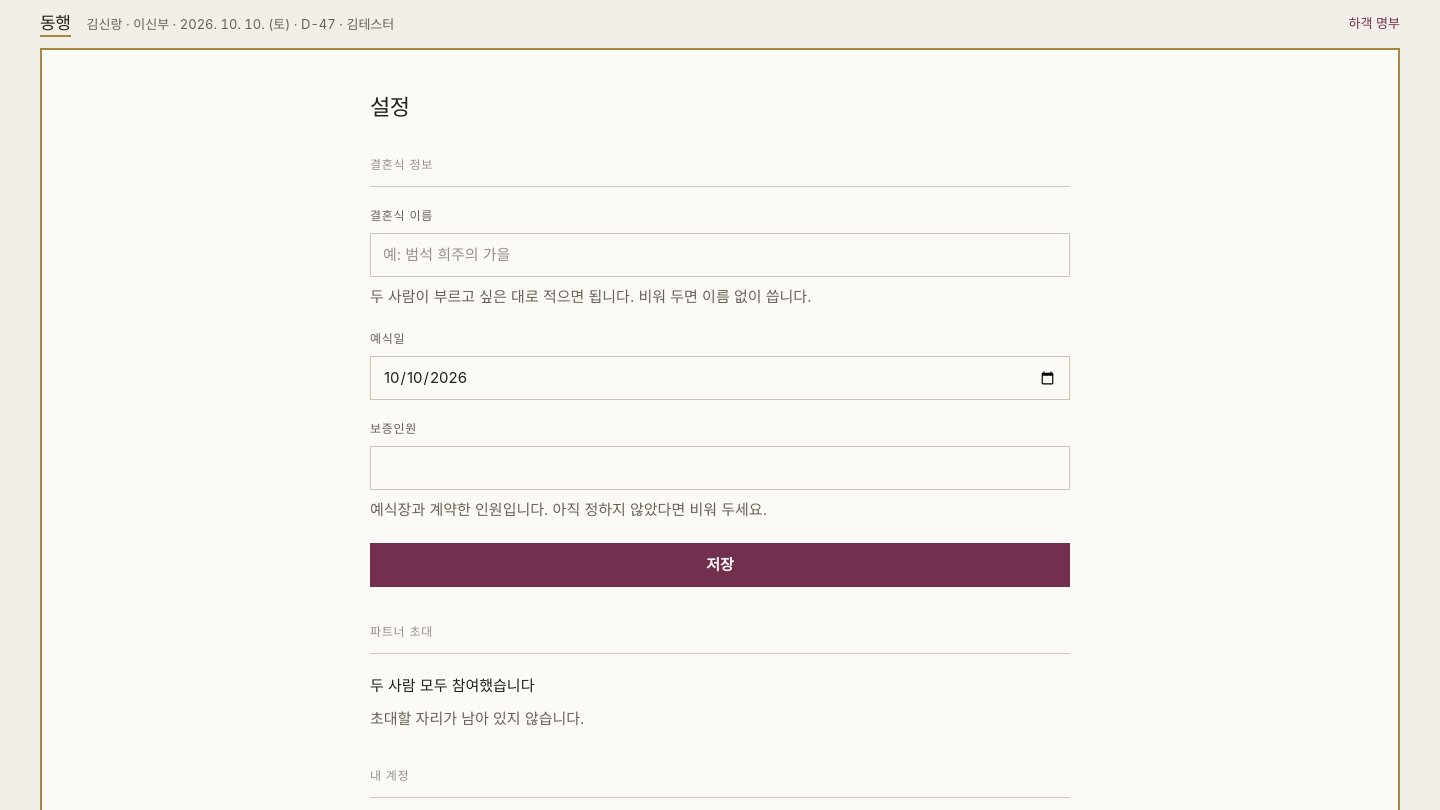
Test: will not spend a round trip on a 보증인원 the API would refuse
This screenshot has width=1440, height=810.
Type "0" into the field labelled "보증인원".
click(720, 468); type("0")  # box 370,446 -> 1070,490
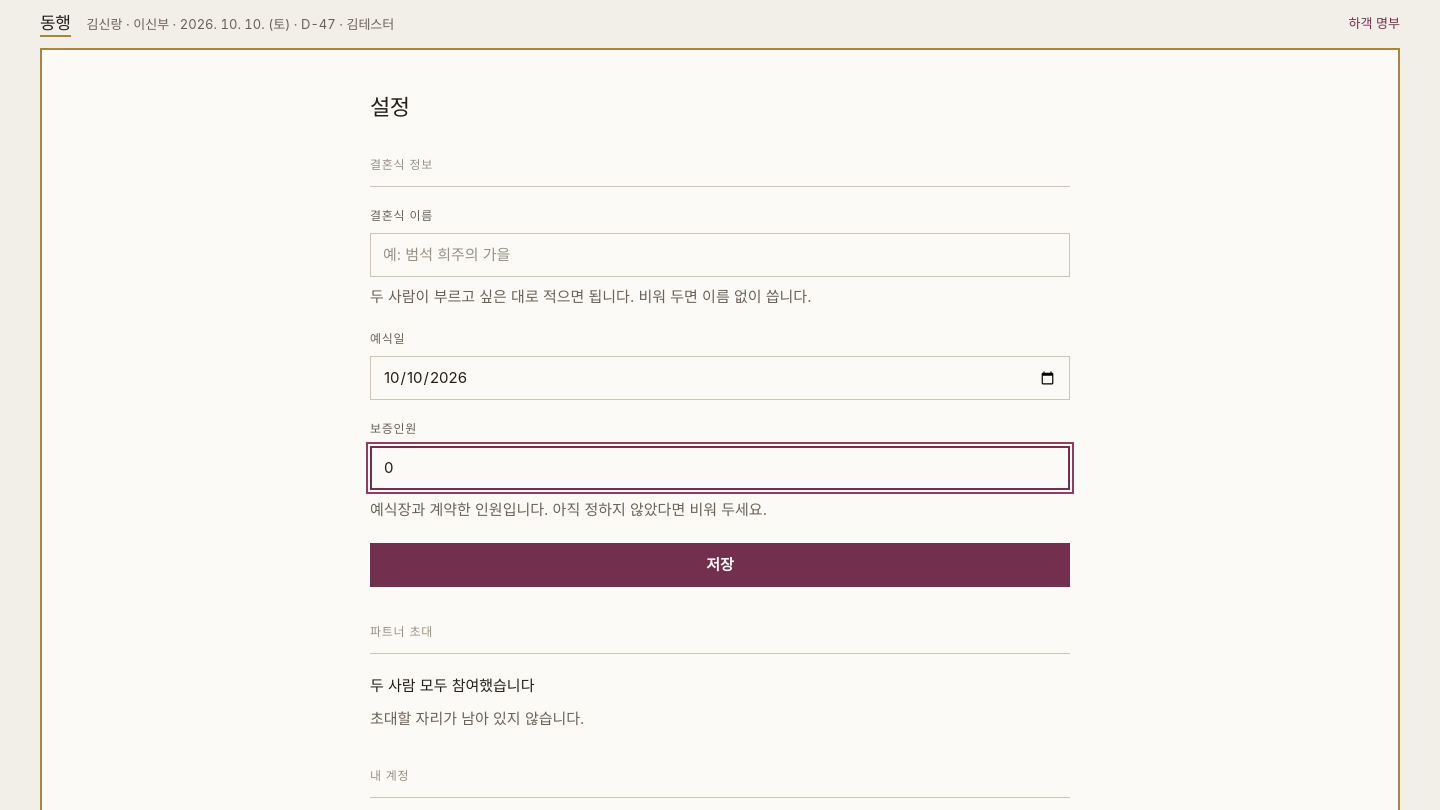
Click the button "저장".
click(720, 565)  # box 370,543 -> 1070,587
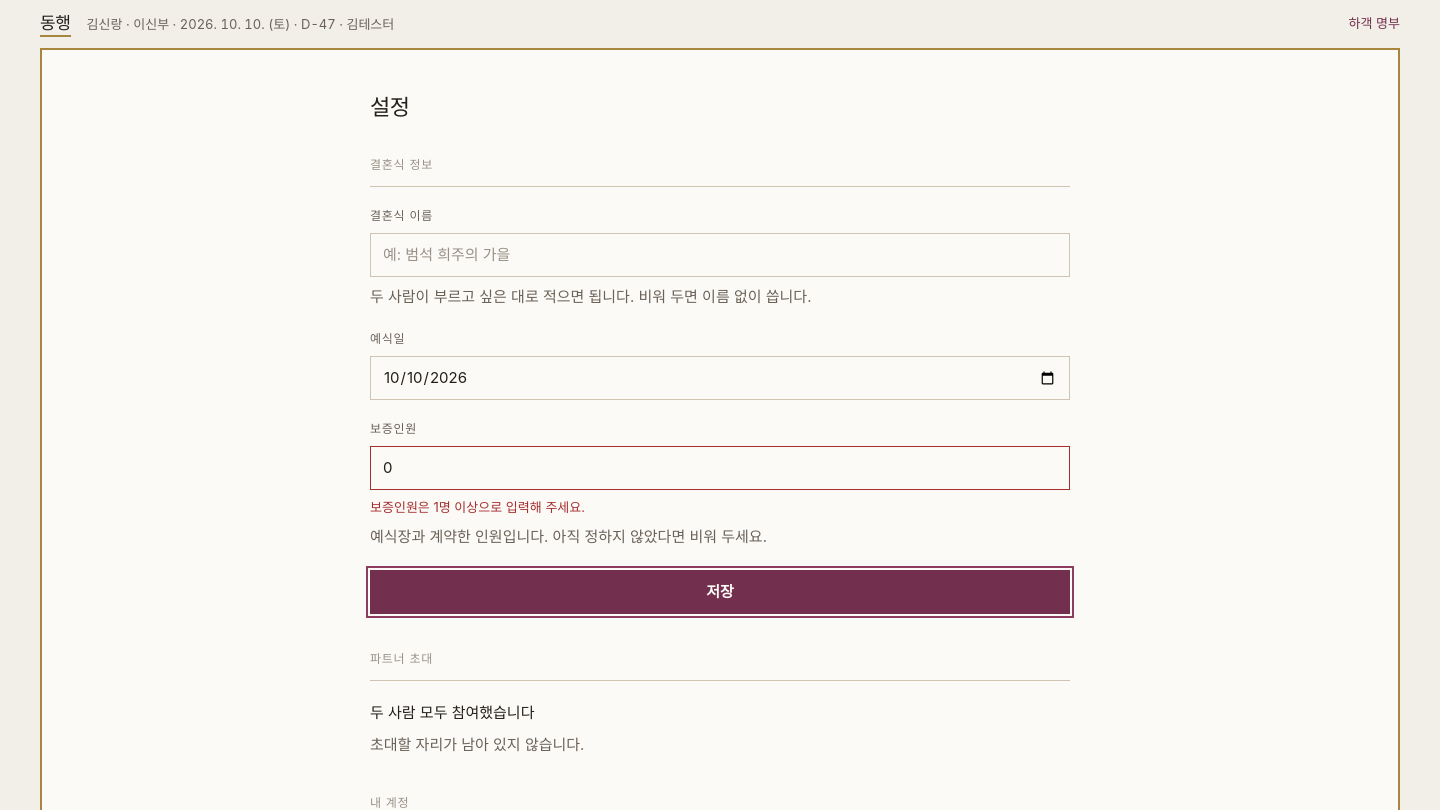
expect the text "보증인원은 1명 이상으로 입력해 주세요." is shown: met, box 370,499 -> 585,515
